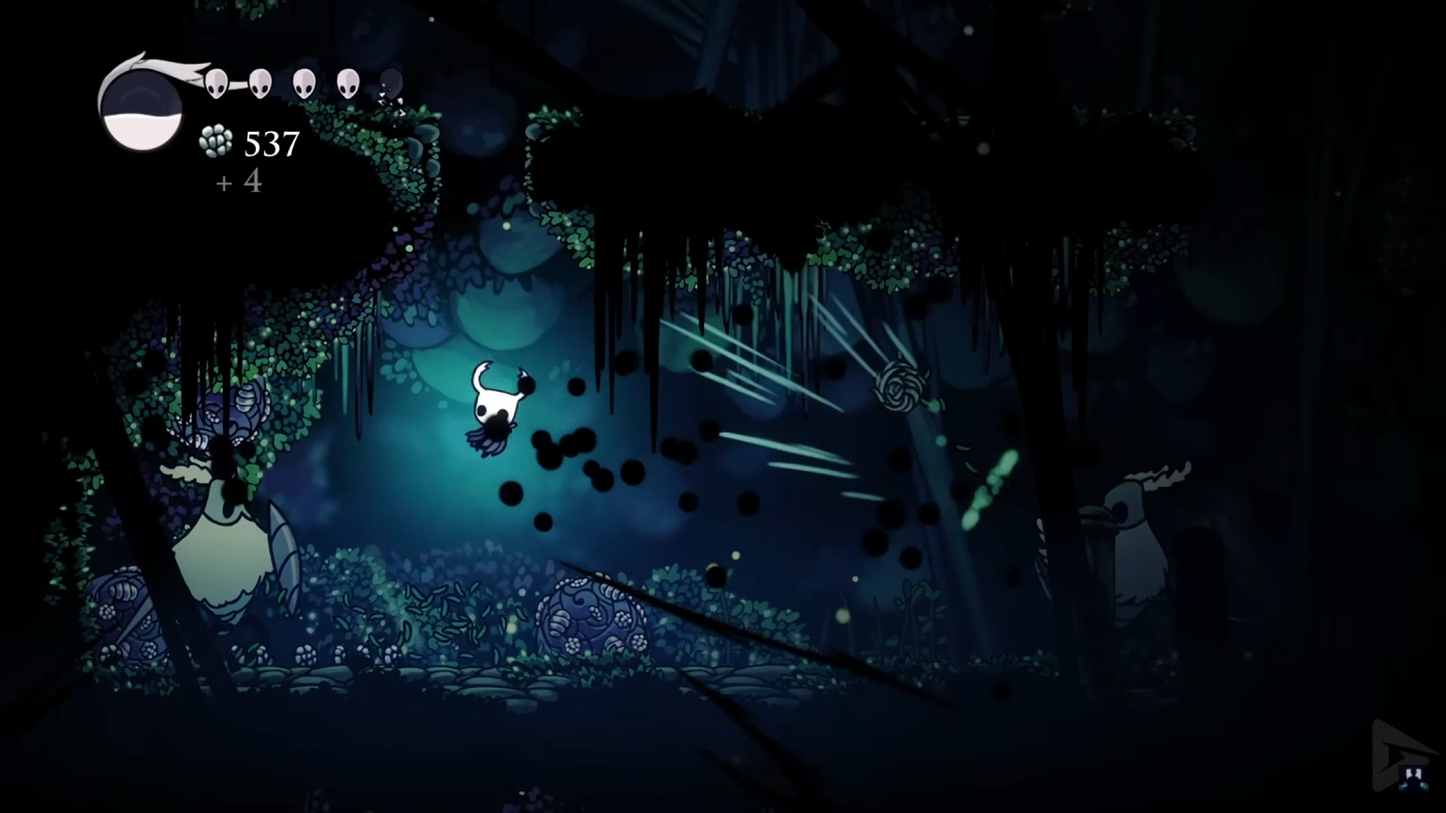HK: (466, 358, 532, 458)
